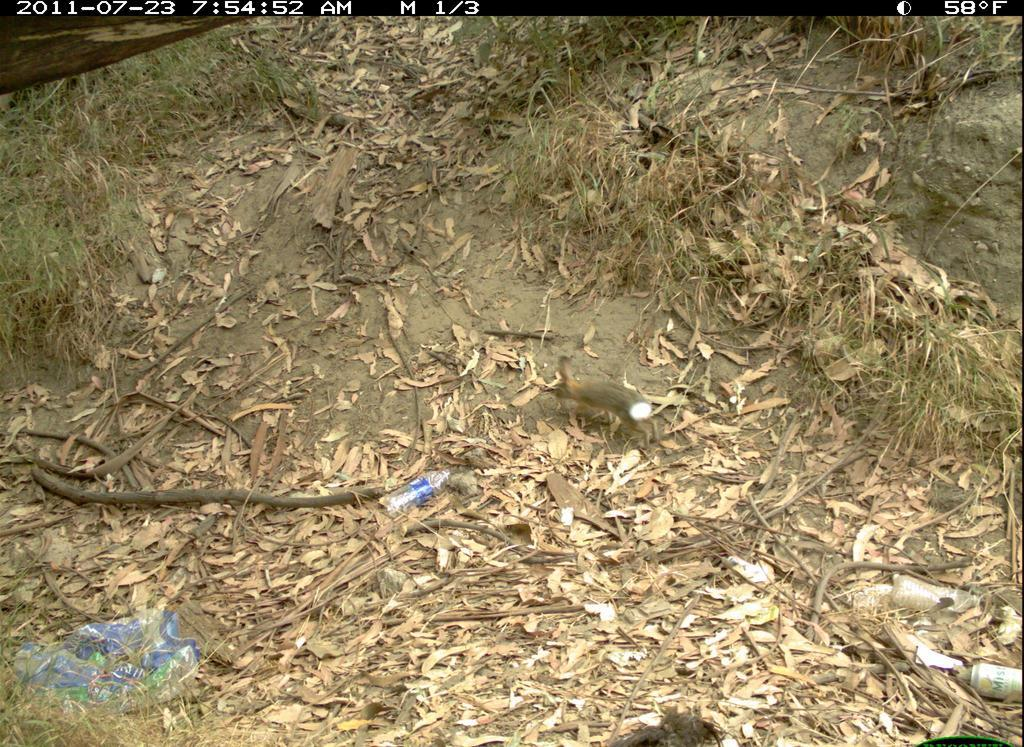rabbit: (532, 352, 677, 467)
